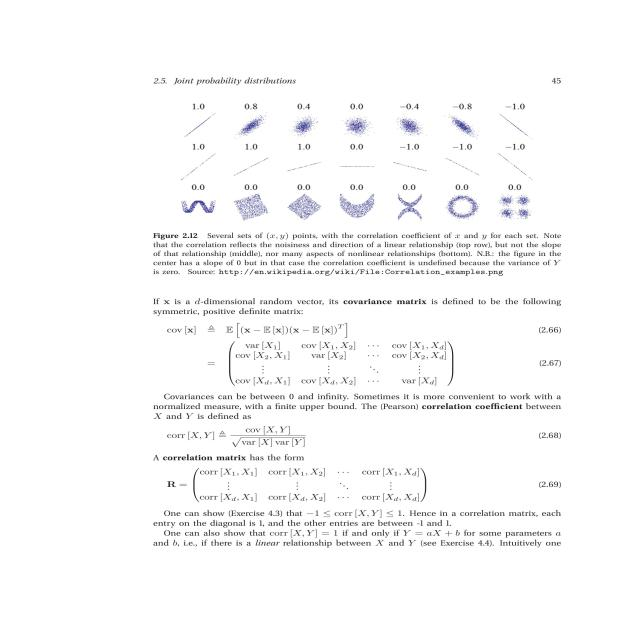diagram: (130, 98, 598, 282)
